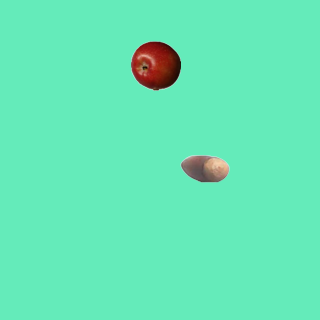Apple Braeburn: (130, 40, 180, 90)
Hazelnut: (179, 143, 229, 193)
